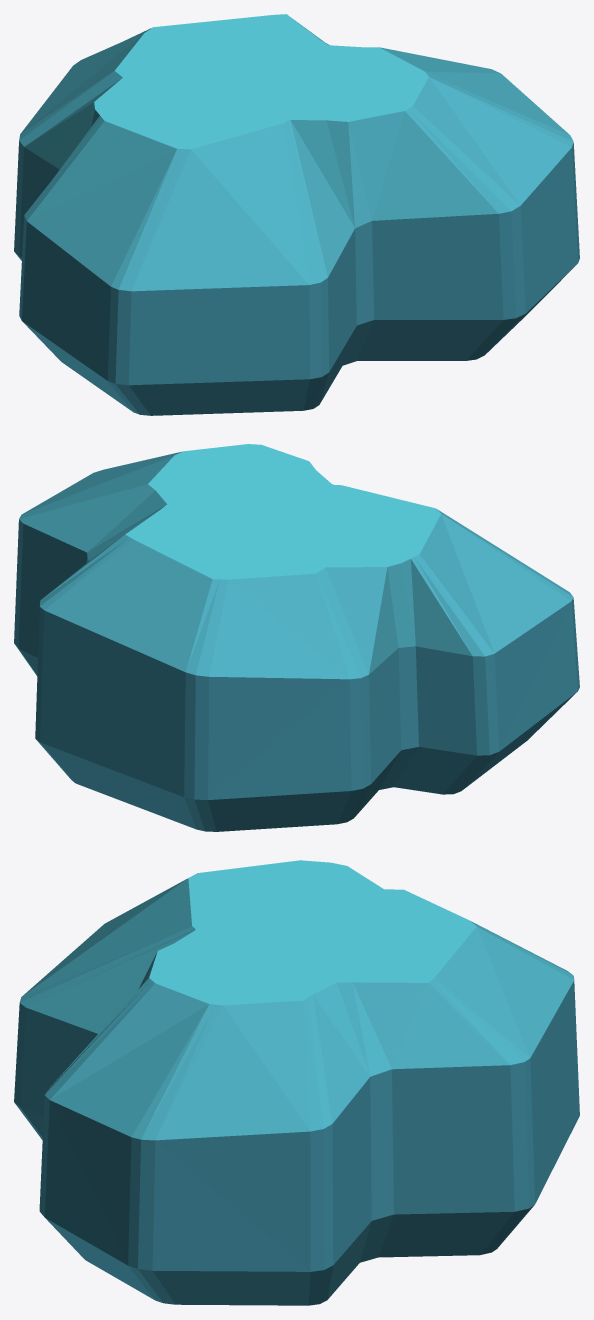
File: diamond_deposit_icon.fbx
The picture shows the model from 3 angles, top to bottom: view 1: azimuth 30°, elevation 25°; view 2: azimuth 150°, elevation 25°; view 3: azimuth 270°, elevation 25°; orthographic projection. The views are drawn at different scales.
Visible parts, largest first — view 1: diamond_deposit_icon_body; view 2: diamond_deposit_icon_body; view 3: diamond_deposit_icon_body.
Part boxes in pixels (x1,y1,x2,y2): diamond_deposit_icon_body: [14, 14, 579, 415]; diamond_deposit_icon_body: [14, 444, 579, 831]; diamond_deposit_icon_body: [14, 860, 579, 1305].
Size of the model in its own units: 4 by 1.85 by 3.7.
Materials: 1 (1 with a texture image).
